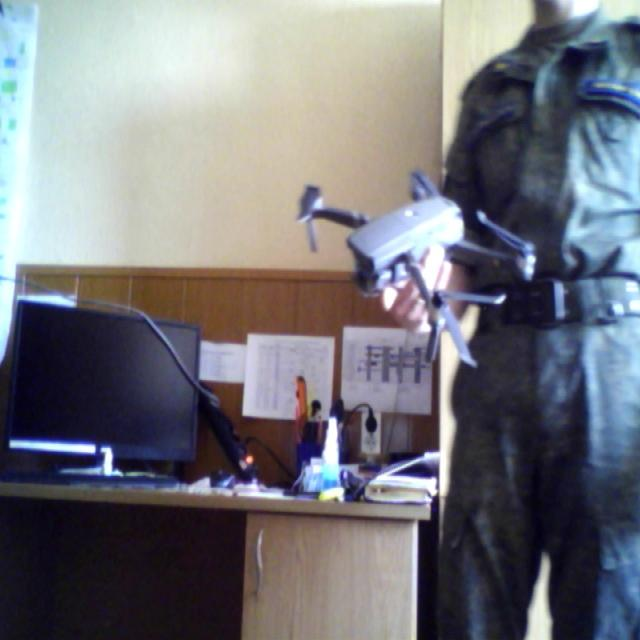drone: (291, 154, 546, 350)
